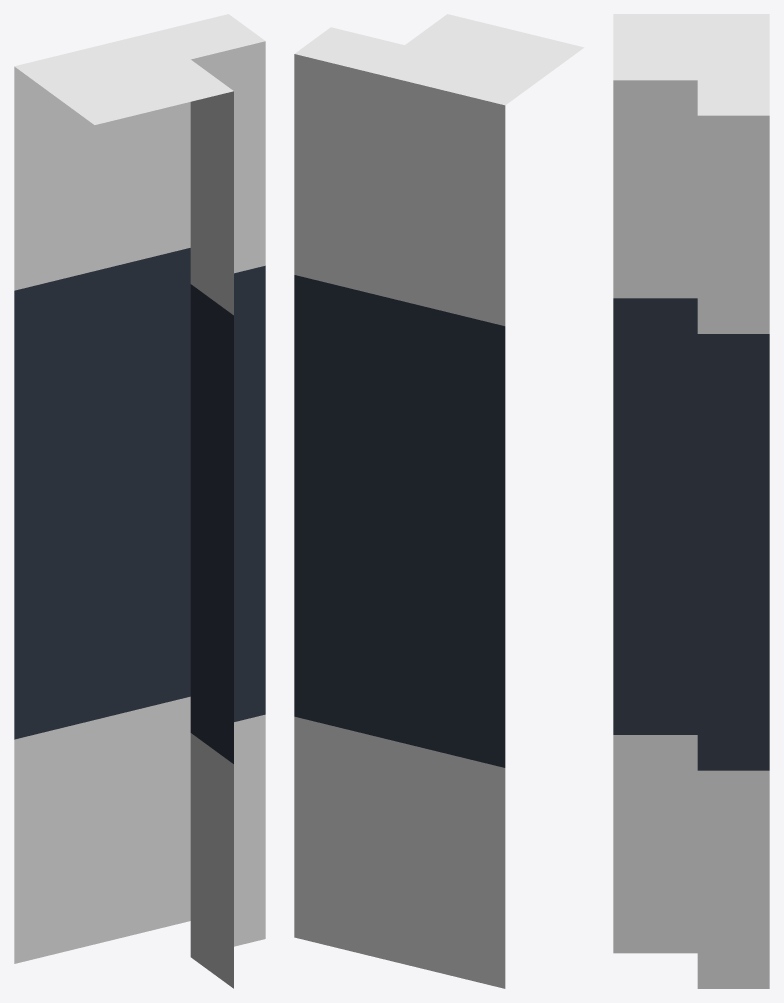
The model's file is SM_OffCrossTOBL.fbx.
3 views of the same model, side by side, from view 1: azimuth 30°, elevation 25°; view 2: azimuth 150°, elevation 25°; view 3: azimuth 270°, elevation 25° (orthographic). The views are drawn at different scales.
Parts seen in each view (by area): view 1: SM_TCrossOBL; view 2: SM_TCrossOBL; view 3: SM_TCrossOBL.
Boxes of the visible parts, <box> form: SM_TCrossOBL: <box>14,14,265,988</box>; SM_TCrossOBL: <box>294,14,584,988</box>; SM_TCrossOBL: <box>613,14,769,988</box>.
Size of the model in its own units: 100 by 400 by 65.
